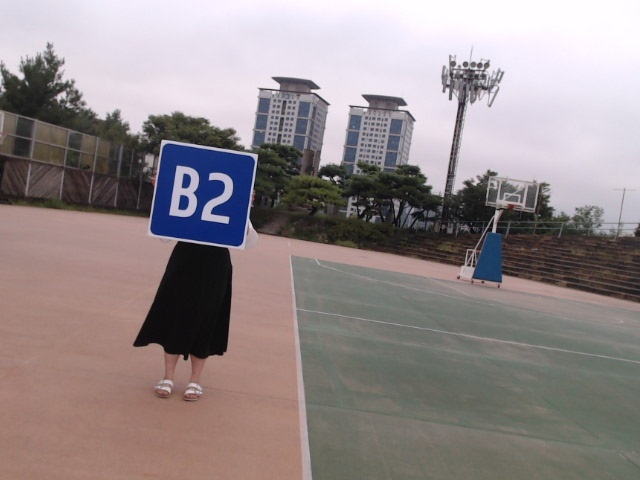delivery_b2: (150, 142, 257, 248)
